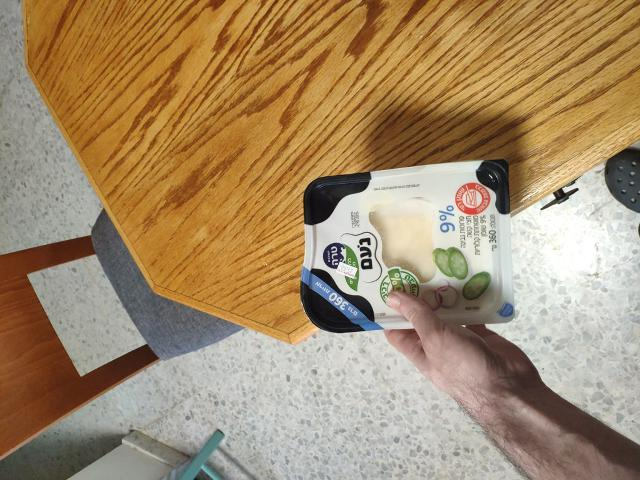cheese: (265, 159, 550, 324)
